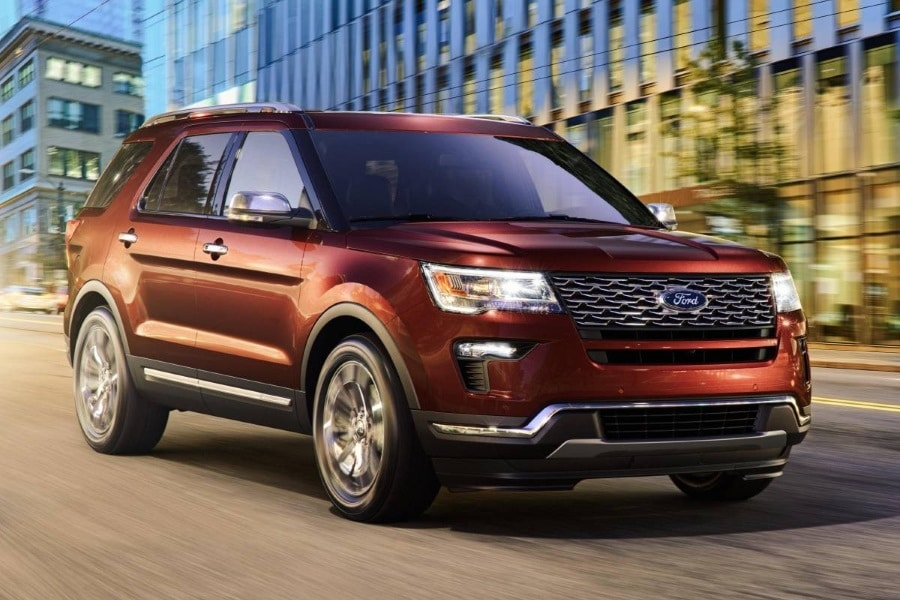car: (61, 102, 811, 524)
